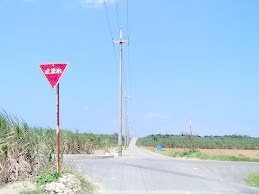Regulatory_sign_triangle: (36, 61, 72, 93)
